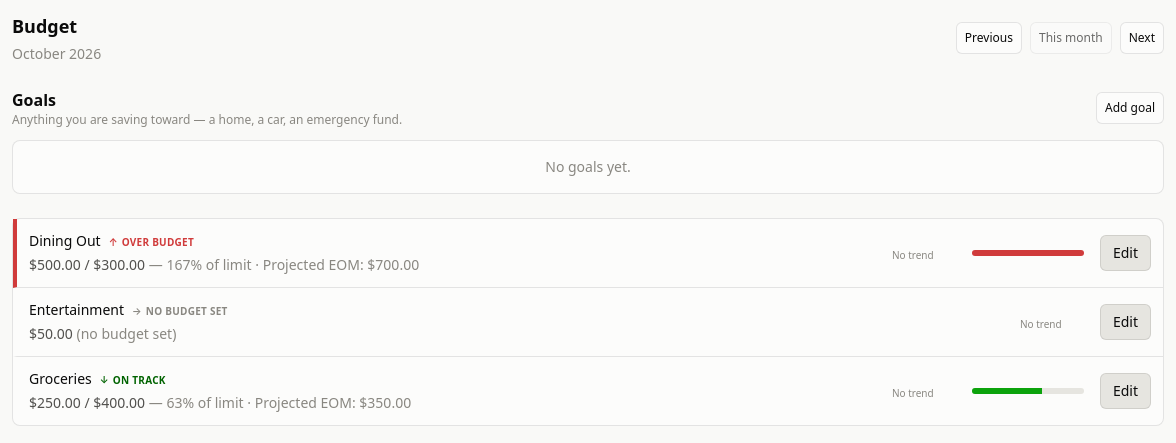
Scenario: BudgetTab › disables "This month" only while the current month is shown
The image size is (1176, 443).
Expected: the button "This month" is disabled, [1030,22,1112,54]
Click the button with aria-label "Previous month": (989, 38) [956,22,1022,54]
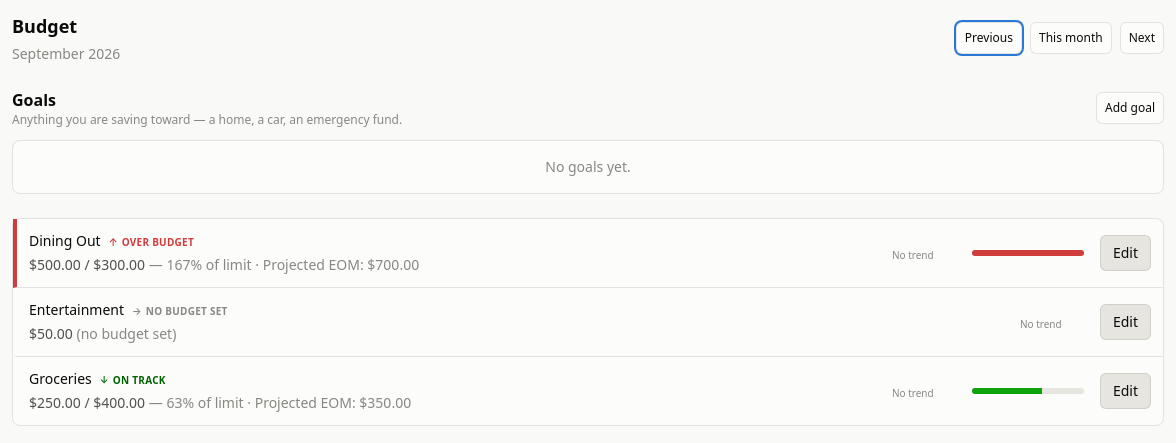
Now the button "This month" is enabled, box [1030,22,1112,54]
